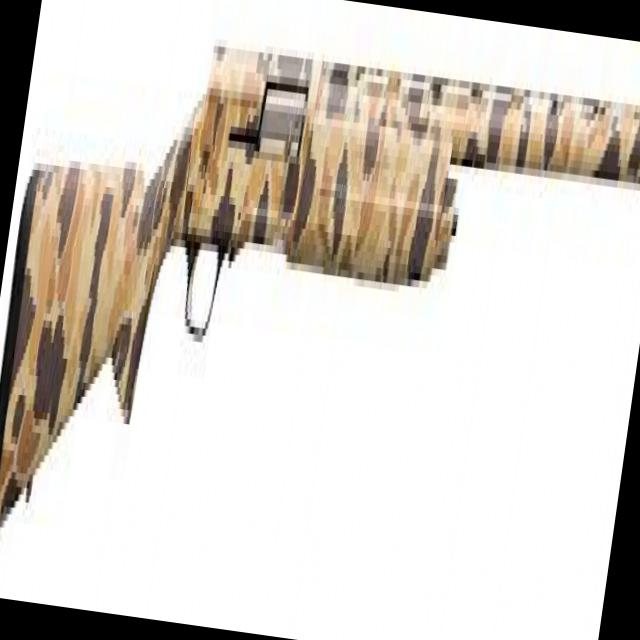long weapon: (0, 25, 640, 584)
